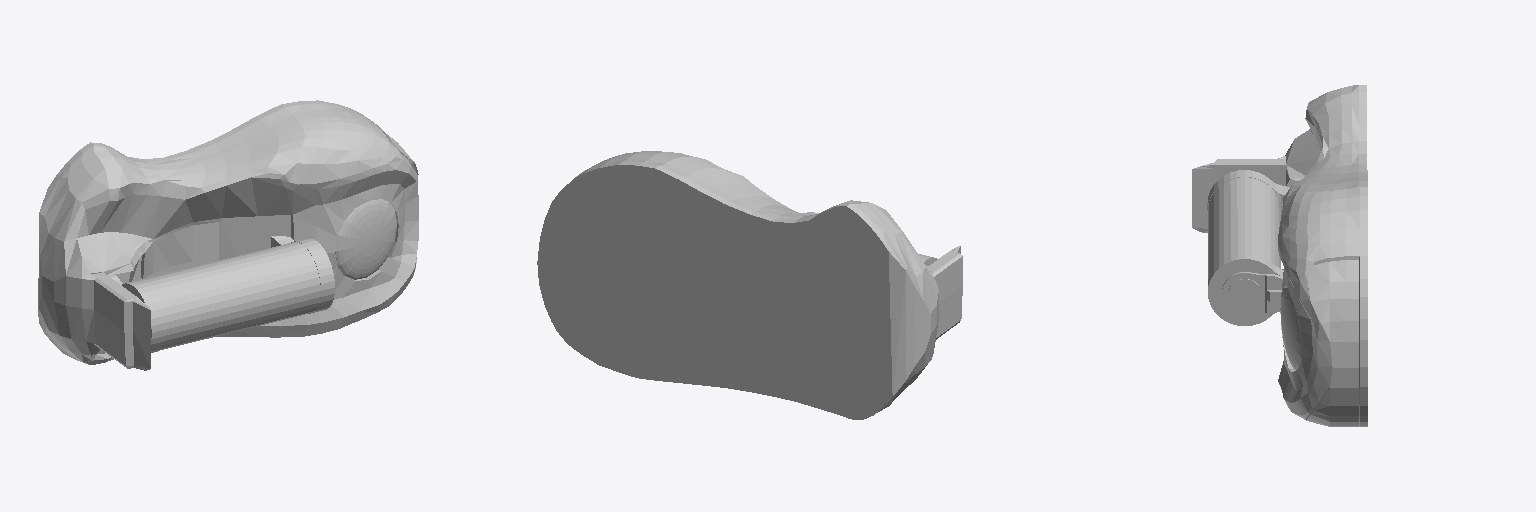
File: LAnkleRoll.obj
3 views of the same model, side by side, from view 1: azimuth 30°, elevation 25°; view 2: azimuth 150°, elevation 25°; view 3: azimuth 270°, elevation 25° (orthographic).
Parts seen in each view (by area): view 1: root; view 2: root; view 3: root.
Part boxes in pixels (x1,y1,x2,y2): root: (38, 100, 418, 370); root: (537, 151, 962, 419); root: (1192, 85, 1367, 426).
Size of the model in its own units: 160 by 90.49 by 64.67.